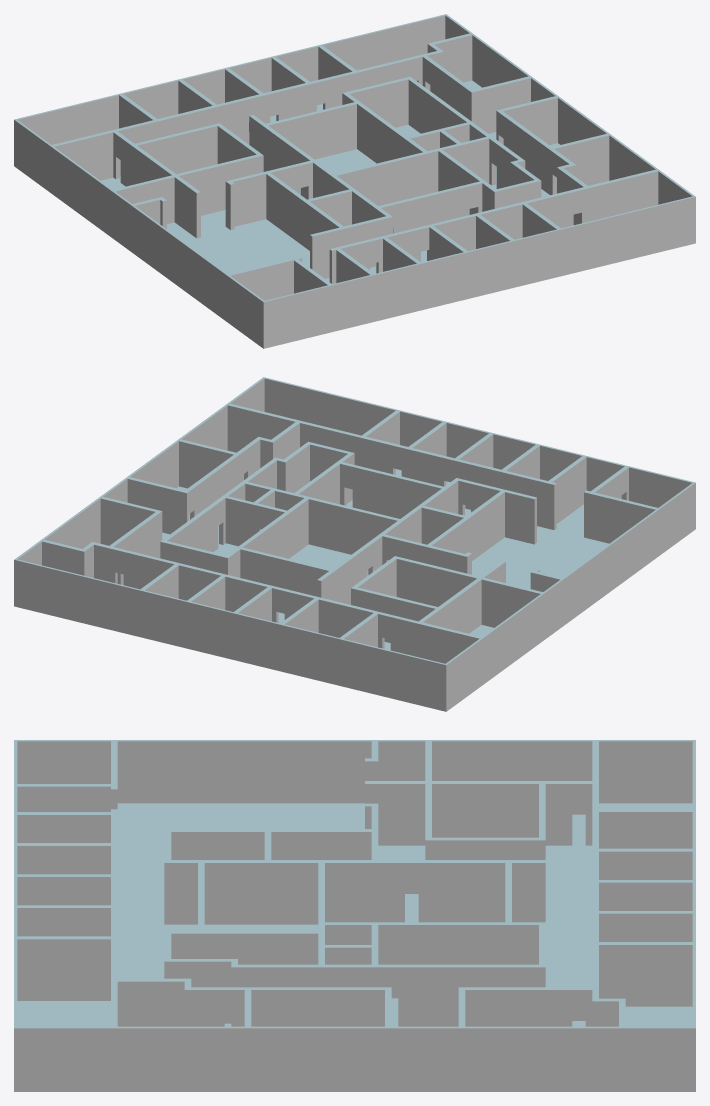
The model's file is OfficeMap.fbx.
The picture shows the model from 3 angles, top to bottom: view 1: azimuth 30°, elevation 25°; view 2: azimuth 150°, elevation 25°; view 3: azimuth 270°, elevation 25°; orthographic projection. The views are drawn at different scales.
Visible parts, largest first — view 1: Cube; view 2: Cube; view 3: Cube.
Part boxes in pixels (x1=…): Cube: x1=14, y1=14, x2=695, y2=348; Cube: x1=14, y1=377, x2=695, y2=711; Cube: x1=14, y1=740, x2=695, y2=1091.
Size of the model in its own units: 6000 by 619 by 6000.
